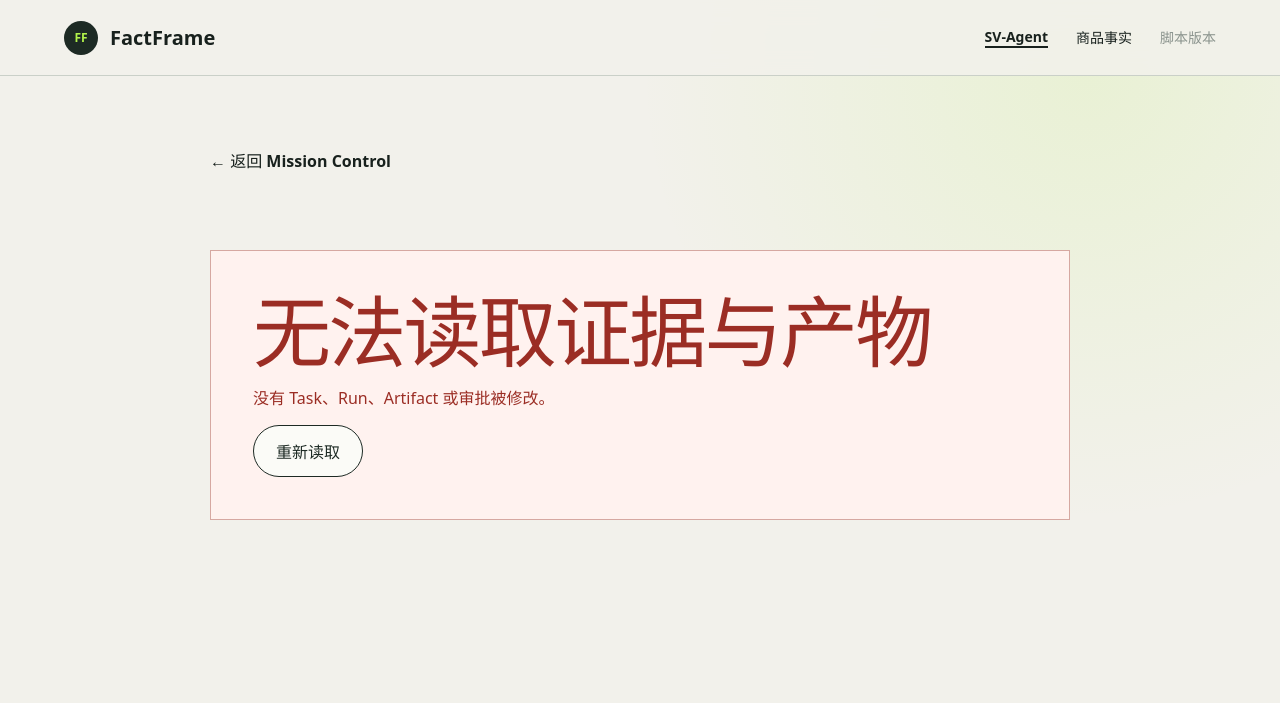
Test: SV-Agent Evidence and Artifacts › recovers from a read failure without sending a write request
Expected: the heading "无法读取证据与产物" is shown, [253,293,1027,369]
Expected: the text "没有 Task、Run、Artifact 或审批被修改。" is shown, [253,387,554,409]
Click the button "重新读取": (308, 451) [253,425,363,477]
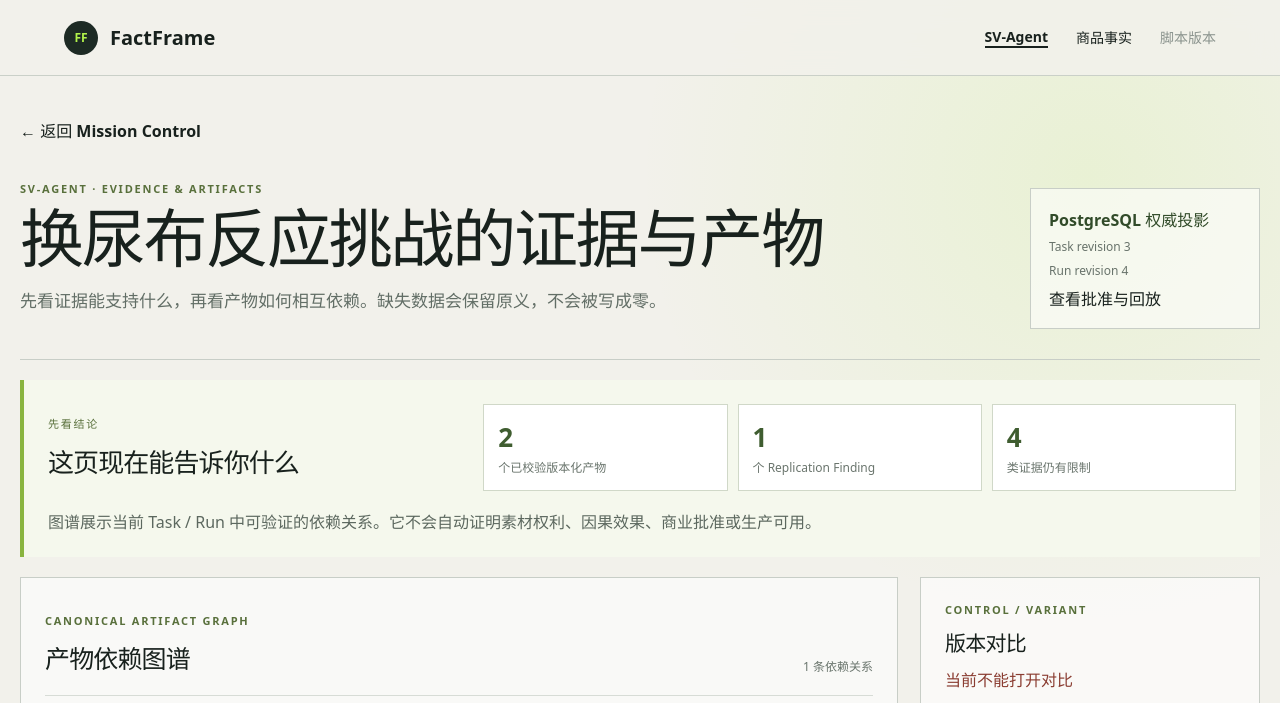
Now the heading "换尿布反应挑战的证据与产物" is shown, box [20,207,920,270]
